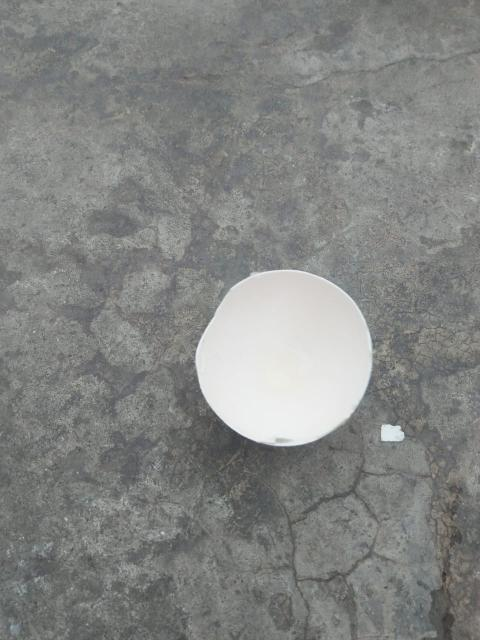Roto: (194, 268, 374, 448)
